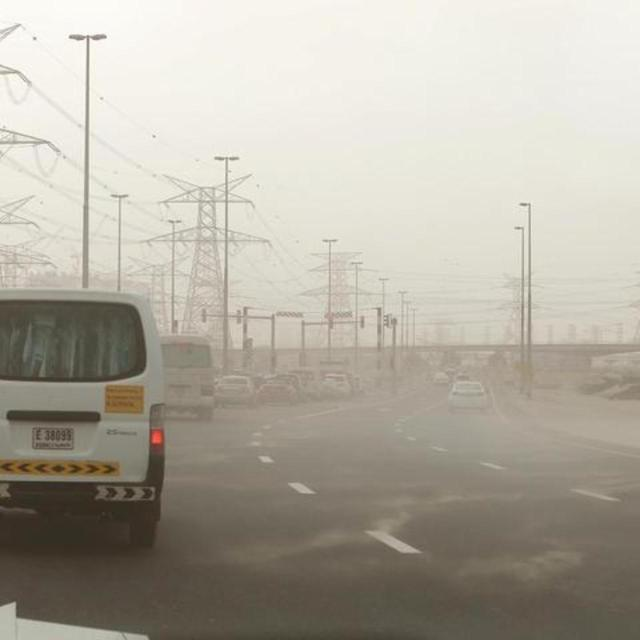Car: (446, 379, 488, 414), (256, 374, 297, 407), (217, 372, 255, 406), (321, 371, 354, 399), (296, 363, 321, 398), (431, 369, 451, 390), (444, 360, 458, 378), (455, 368, 471, 383)
Van: (0, 287, 170, 541), (154, 322, 217, 427)
